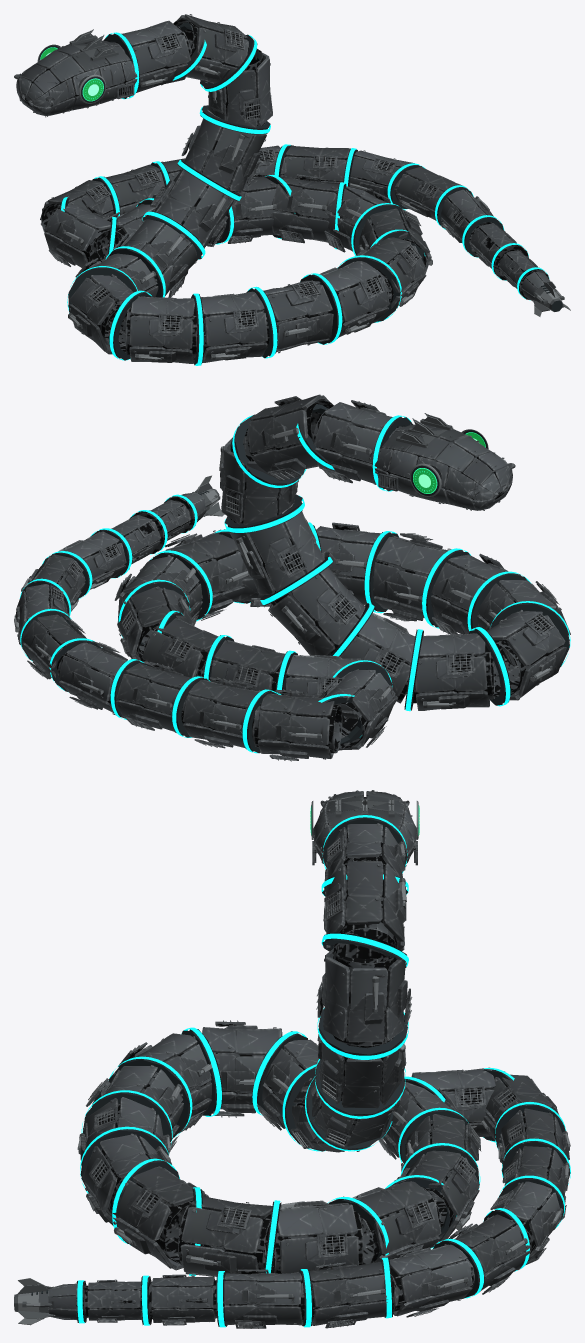
The model's file is snake-sectional-r4.glb.
The picture shows the model from 3 angles, top to bottom: view 1: azimuth 30°, elevation 25°; view 2: azimuth 150°, elevation 25°; view 3: azimuth 270°, elevation 25°; orthographic projection. The views are drawn at different scales.
Visible parts, largest first — view 1: Head, Segment_08, Segment_09, Segment_03, Tail, Segment_10, Segment_04, Segment_15, Segment_07, Segment_11, Segment_00, Segment_01 (+23 smaller); view 2: Head, Segment_06, Segment_20, Segment_04, Segment_01, Segment_03, Segment_07, Segment_00, Segment_10, Segment_21, Tail, Segment_02 (+31 smaller); view 3: Tail, Segment_02, Segment_13, Segment_01, Segment_14, Segment_12, Segment_15, Segment_25, Segment_26, Segment_27, Segment_07, Segment_03 (+24 smaller).
Boxes of the visible parts, left/top/right/bottom form: Head: left=14, top=29, right=137, bottom=117; Segment_08: left=126, top=296, right=197, bottom=363; Segment_09: left=201, top=291, right=269, bottom=362; Segment_03: left=181, top=109, right=266, bottom=191; Tail: left=470, top=223, right=570, bottom=316; Segment_10: left=263, top=280, right=333, bottom=353; Segment_04: left=149, top=168, right=234, bottom=247; Segment_15: left=271, top=174, right=338, bottom=243; Segment_07: left=68, top=275, right=133, bottom=354; Segment_11: left=319, top=261, right=389, bottom=337; Segment_00: left=112, top=20, right=191, bottom=92; Segment_01: left=173, top=14, right=249, bottom=86; Head: left=374, top=413, right=515, bottom=510; Segment_06: left=409, top=633, right=494, bottom=710; Segment_20: left=253, top=689, right=342, bottom=761; Segment_04: left=268, top=567, right=365, bottom=655; Segment_01: left=247, top=394, right=333, bottom=480; Segment_03: left=229, top=503, right=324, bottom=595; Segment_07: left=486, top=611, right=566, bottom=700; Segment_00: left=313, top=400, right=402, bottom=484; Segment_10: left=373, top=533, right=450, bottom=621; Segment_21: left=181, top=677, right=260, bottom=749; Tail: left=112, top=475, right=224, bottom=564; Segment_02: left=219, top=430, right=298, bottom=525; Tail: left=14, top=1274, right=216, bottom=1325; Segment_02: left=316, top=939, right=412, bottom=1045; Segment_13: left=178, top=1195, right=274, bottom=1276; Segment_01: left=323, top=859, right=406, bottom=962; Segment_14: left=264, top=1200, right=363, bottom=1273; Segment_12: left=111, top=1166, right=209, bottom=1270; Segment_15: left=352, top=1180, right=441, bottom=1264; Segment_25: left=389, top=1244, right=474, bottom=1317; Segment_26: left=309, top=1262, right=395, bottom=1328; Segment_27: left=223, top=1269, right=304, bottom=1328; Segment_07: left=202, top=1020, right=282, bottom=1117; Segment_03: left=317, top=1034, right=406, bottom=1108.
Size of the model in its own units: 7.35 by 4.45 by 6.63.
12 materials, 3 textured.
